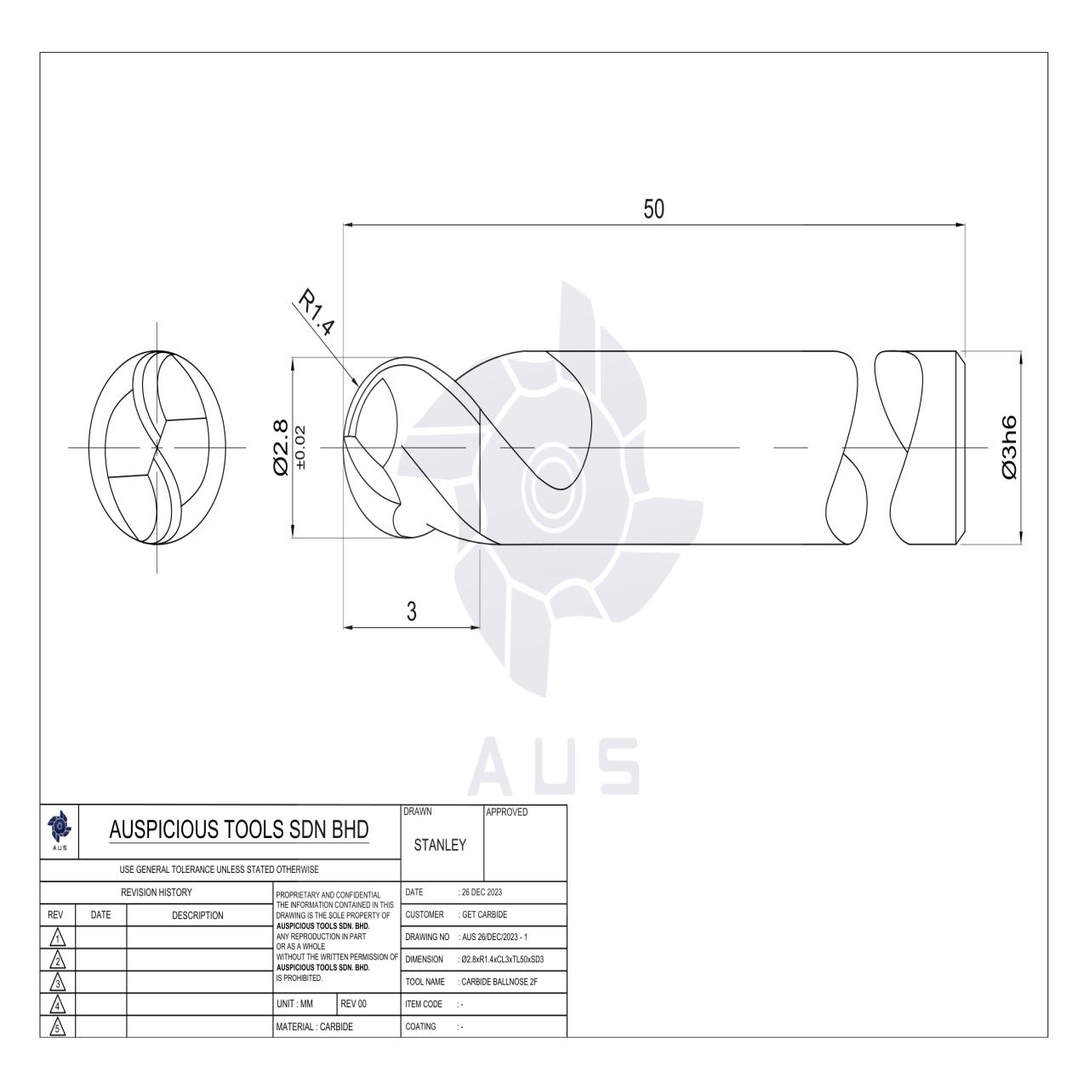basic_dimension: (643, 198, 664, 220), (407, 600, 417, 622)
dimension_diameter_symbol: (999, 414, 1019, 483), (272, 420, 290, 479)
dimension_diameter_text: (998, 413, 1019, 459), (273, 420, 290, 455)
dimension_radius_symbol: (298, 287, 336, 338)
dimension_radius_text: (308, 300, 336, 338)
